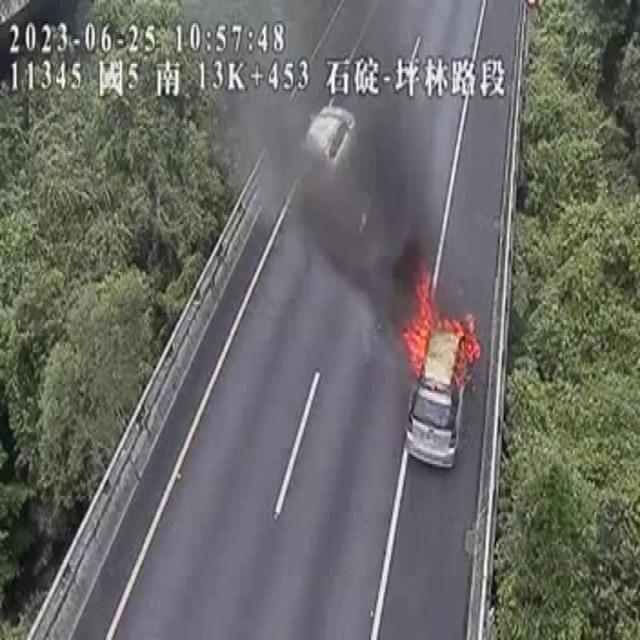Fire: (402, 272, 480, 382)
Smoke: (267, 0, 444, 332)
